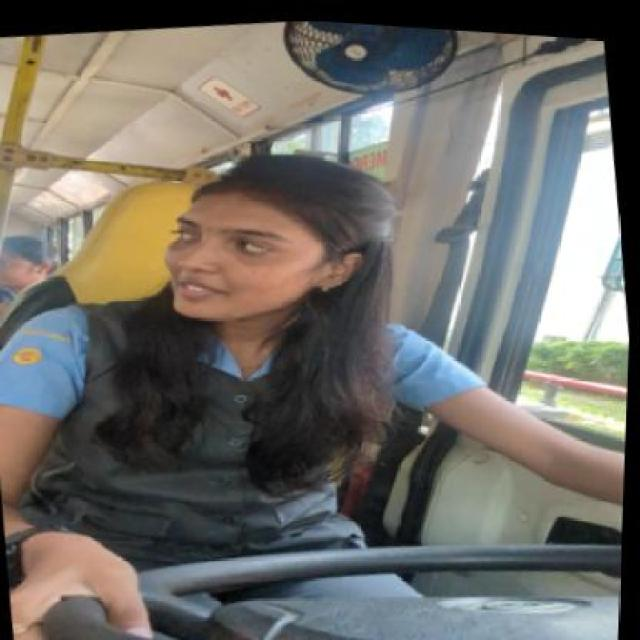Inattentive: (162, 155, 398, 318)
